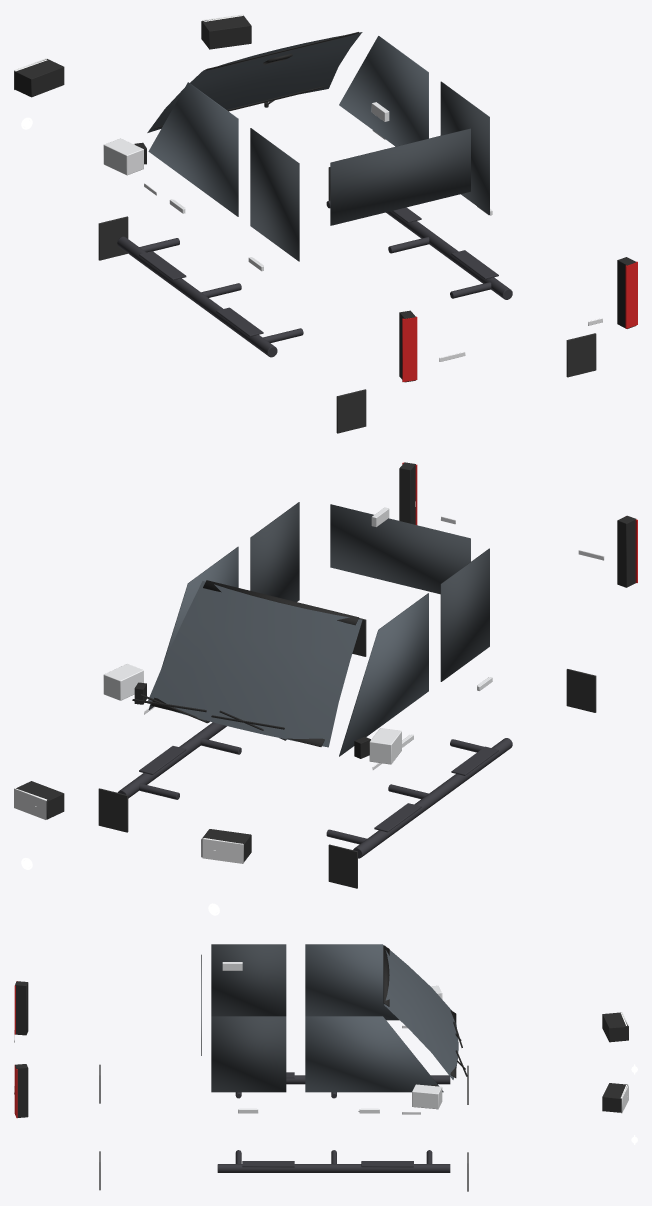
The model's file is lighting_glass.glb.
The picture shows the model from 3 angles, top to bottom: view 1: azimuth 30°, elevation 25°; view 2: azimuth 150°, elevation 25°; view 3: azimuth 270°, elevation 25°; orthographic projection. The views are drawn at different scales.
Parts seen in each view (by area): view 1: GLASS_RearCabin_Privacy, GLASS_FrontDoor_R, GLASS_Windshield_Clear, GLASS_FrontDoor_L, GLASS_RearDoor_R, HARDWARE_SideStepPlatform_R, GLASS_RearDoor_L, HARDWARE_SideStepPlatform_L, LIGHT_HeadlampHousing_L, LIGHT_HeadlampHousing_R, HARDWARE_RearMudFlap_R, HARDWARE_RearMudFlap_L (+6 smaller); view 2: GLASS_Windshield_Clear, GLASS_RearCabin_Privacy, GLASS_FrontDoor_R, GLASS_RearDoor_R, GLASS_RearDoor_L, HARDWARE_SideStepPlatform_R, HARDWARE_SideStepPlatform_L, GLASS_FrontDoor_L, LIGHT_TaillampHousing_R, GLASS_Windshield_FritBand, HARDWARE_FrontMudFlap_L, HARDWARE_RearMudFlap_R (+9 smaller); view 3: GLASS_FrontDoor_L, GLASS_FrontDoor_R, GLASS_RearDoor_L, GLASS_RearDoor_R, GLASS_Windshield_Clear, HARDWARE_SideStepPlatform_L, LIGHT_TaillampHousing_R, HARDWARE_MirrorShell_L, LIGHT_HeadlampHousing_R, LIGHT_TaillampHousing_L, LIGHT_HeadlampHousing_L, HARDWARE_SideStepPlatform_R (+1 smaller).
Part boxes in pixels (box(x1,y1,x2,y2)): GLASS_RearCabin_Privacy: box(330, 128, 470, 225); GLASS_FrontDoor_R: box(148, 82, 238, 216); GLASS_Windshield_Clear: box(147, 32, 362, 132); GLASS_FrontDoor_L: box(339, 36, 428, 146); GLASS_RearDoor_R: box(250, 128, 299, 261); HARDWARE_SideStepPlatform_R: box(117, 236, 303, 357); GLASS_RearDoor_L: box(440, 81, 489, 214); HARDWARE_SideStepPlatform_L: box(326, 200, 512, 299); LIGHT_HeadlampHousing_L: box(201, 15, 251, 49); LIGHT_HeadlampHousing_R: box(14, 59, 64, 97); HARDWARE_RearMudFlap_R: box(336, 389, 366, 433); HARDWARE_RearMudFlap_L: box(566, 333, 596, 377); GLASS_Windshield_Clear: box(148, 581, 362, 747); GLASS_RearCabin_Privacy: box(330, 504, 470, 594); GLASS_FrontDoor_R: box(339, 593, 428, 756); GLASS_RearDoor_R: box(440, 548, 489, 681); GLASS_RearDoor_L: box(250, 502, 299, 601); HARDWARE_SideStepPlatform_R: box(326, 738, 512, 858); HARDWARE_SideStepPlatform_L: box(118, 722, 241, 799); GLASS_FrontDoor_L: box(148, 546, 238, 709); LIGHT_TaillampHousing_R: box(617, 515, 636, 587); GLASS_Windshield_FritBand: box(150, 580, 358, 746); HARDWARE_FrontMudFlap_L: box(98, 788, 128, 832); HARDWARE_RearMudFlap_R: box(566, 669, 596, 712); GLASS_FrontDoor_L: box(305, 1016, 443, 1092); GLASS_FrontDoor_R: box(305, 944, 399, 1020); GLASS_RearDoor_L: box(211, 1016, 286, 1092); GLASS_RearDoor_R: box(211, 944, 286, 1016); GLASS_Windshield_Clear: box(384, 945, 458, 1079); HARDWARE_SideStepPlatform_L: box(217, 1150, 450, 1172); LIGHT_TaillampHousing_R: box(15, 981, 28, 1035); HARDWARE_MirrorShell_L: box(412, 1084, 442, 1109); LIGHT_HeadlampHousing_R: box(602, 1012, 628, 1042); LIGHT_TaillampHousing_L: box(15, 1064, 28, 1117); LIGHT_HeadlampHousing_L: box(602, 1083, 627, 1112); HARDWARE_SideStepPlatform_R: box(235, 1072, 450, 1098).
Size of the model in its own units: 2.15 by 1.67 by 5.23.
